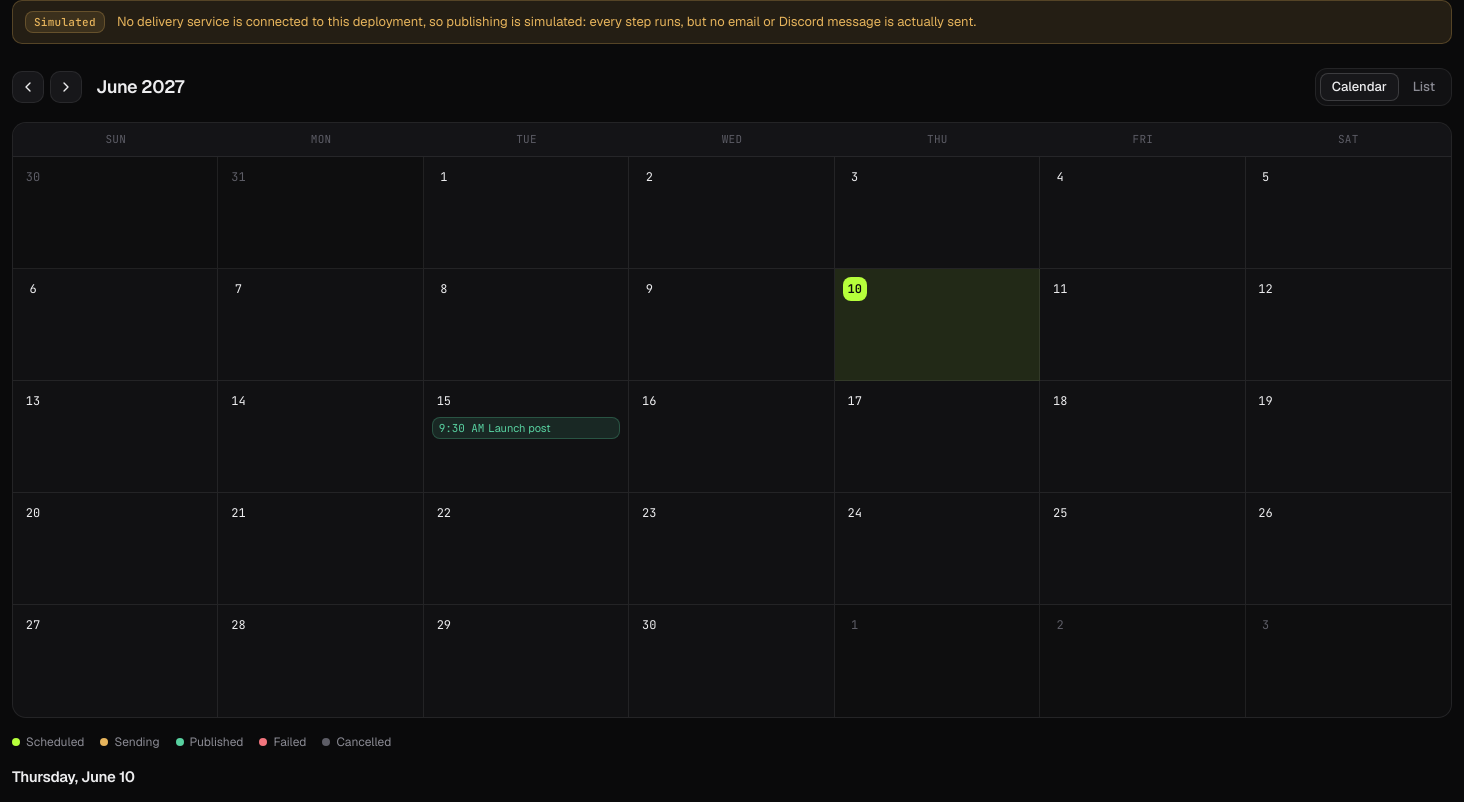
it: CalendarView › labels a simulated deployment and simulated jobs
The width and height of the screenshot is (1464, 802).
Expected: the text "publishing is simulated" is shown, [117,13,976,30]
# Radix tabs switch on mouse down, like native tabs.
Press the mouse on the tab "List" at (1424, 87), box [1401,73,1447,101]
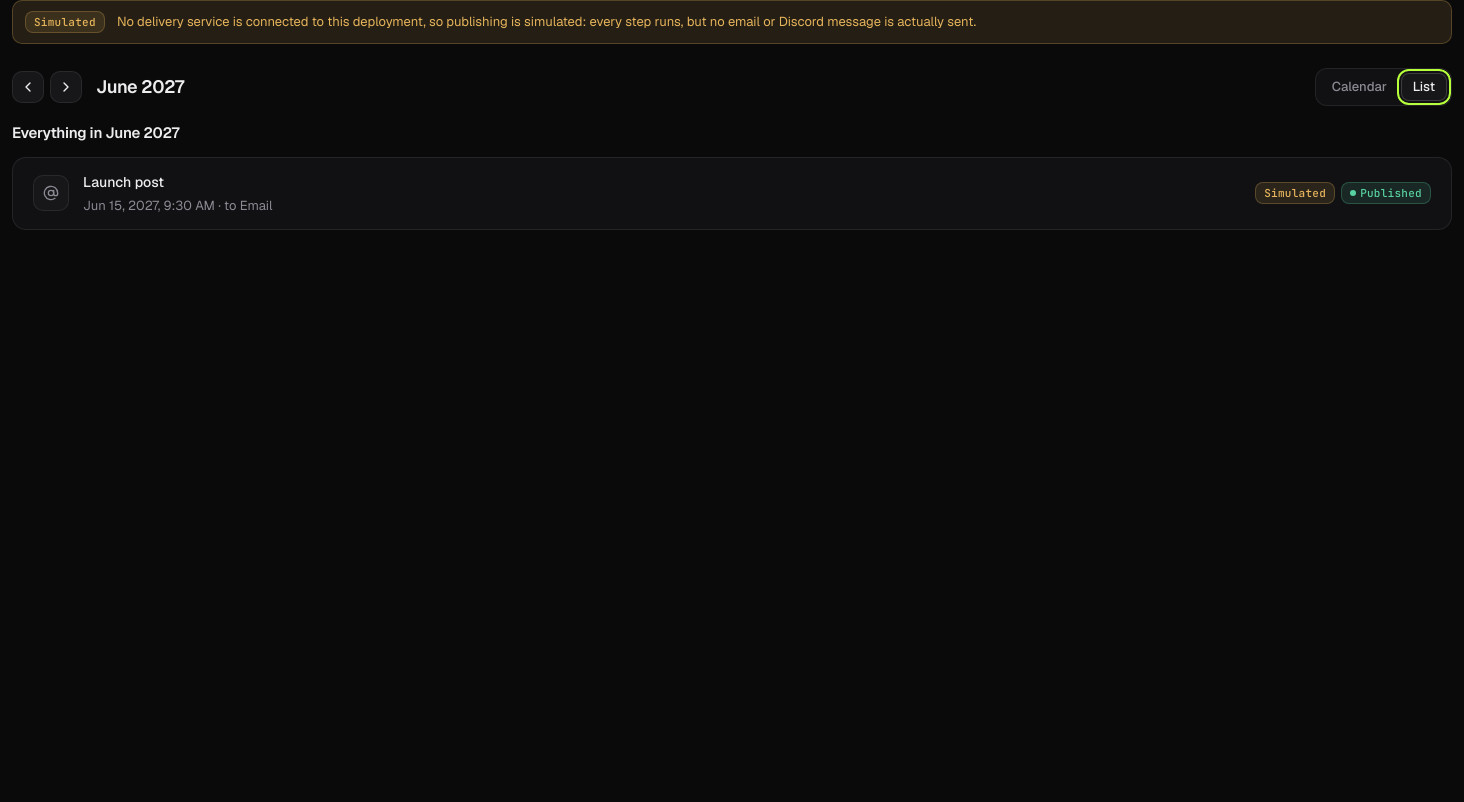
Expected: the heading "Everything in June 2027" is shown, [12,123,179,142]
Expected: the 2nd text "Simulated" is shown, [1255,182,1335,204]
